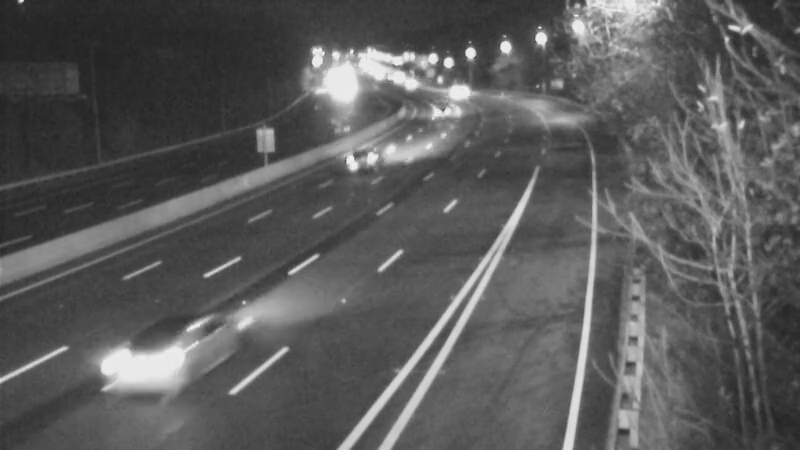vehicle: (92, 312, 202, 422), (308, 127, 388, 207), (426, 63, 476, 113), (424, 86, 474, 136)
